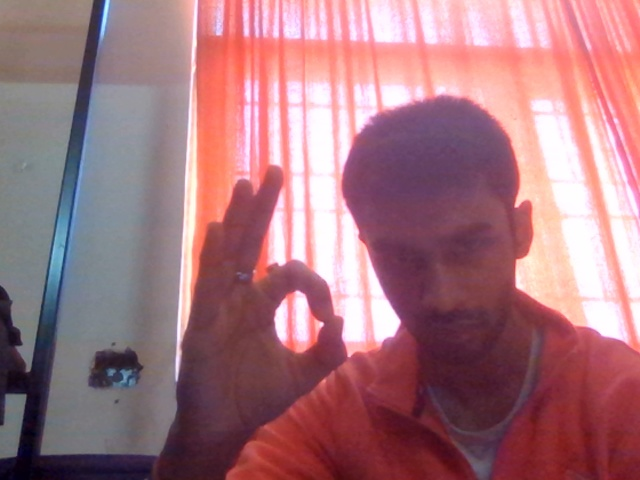F: (173, 159, 369, 464)
